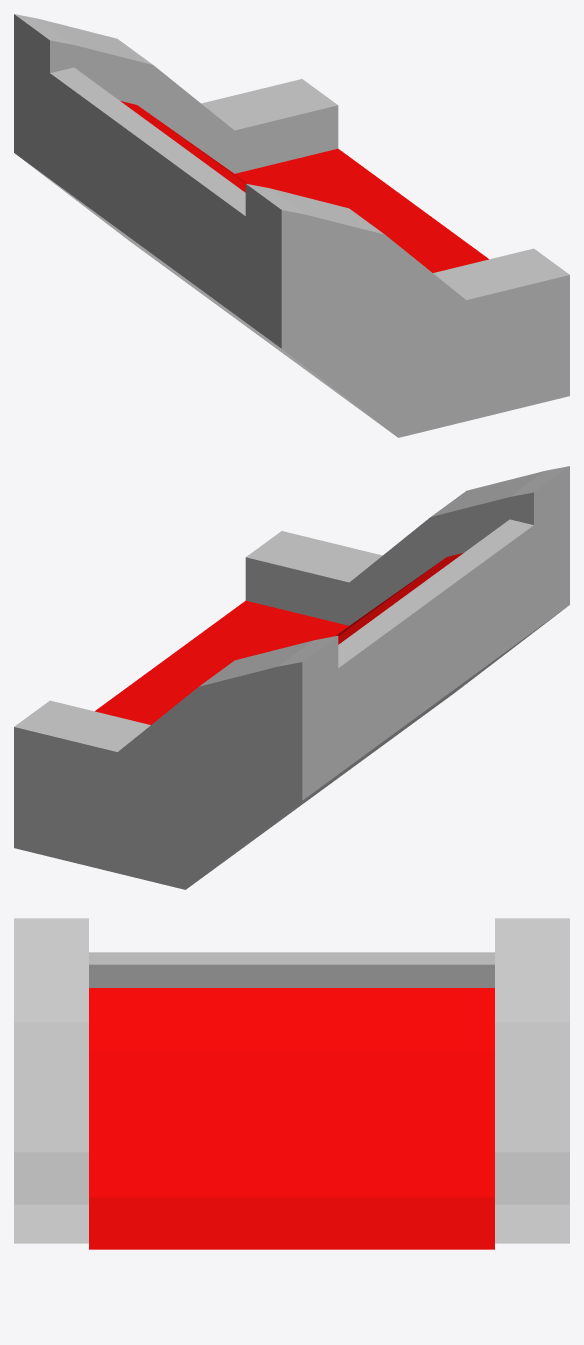
The model's file is stone_bridge_destroyed_03_collision.fbx.
3 renders of one model, top to bottom at view 1: azimuth 30°, elevation 25°; view 2: azimuth 150°, elevation 25°; view 3: azimuth 270°, elevation 25°, orthographic. The views are drawn at different scales.
Visible parts, largest first — view 1: obj1.050; view 2: obj1.050; view 3: obj1.050.
Part boxes in pixels (x1,y1,x2,y2): obj1.050: [14, 14, 569, 437]; obj1.050: [14, 466, 569, 889]; obj1.050: [14, 918, 569, 1249].
Bounding box in the file's own units: 3.83 × 3.25 × 6.16.
